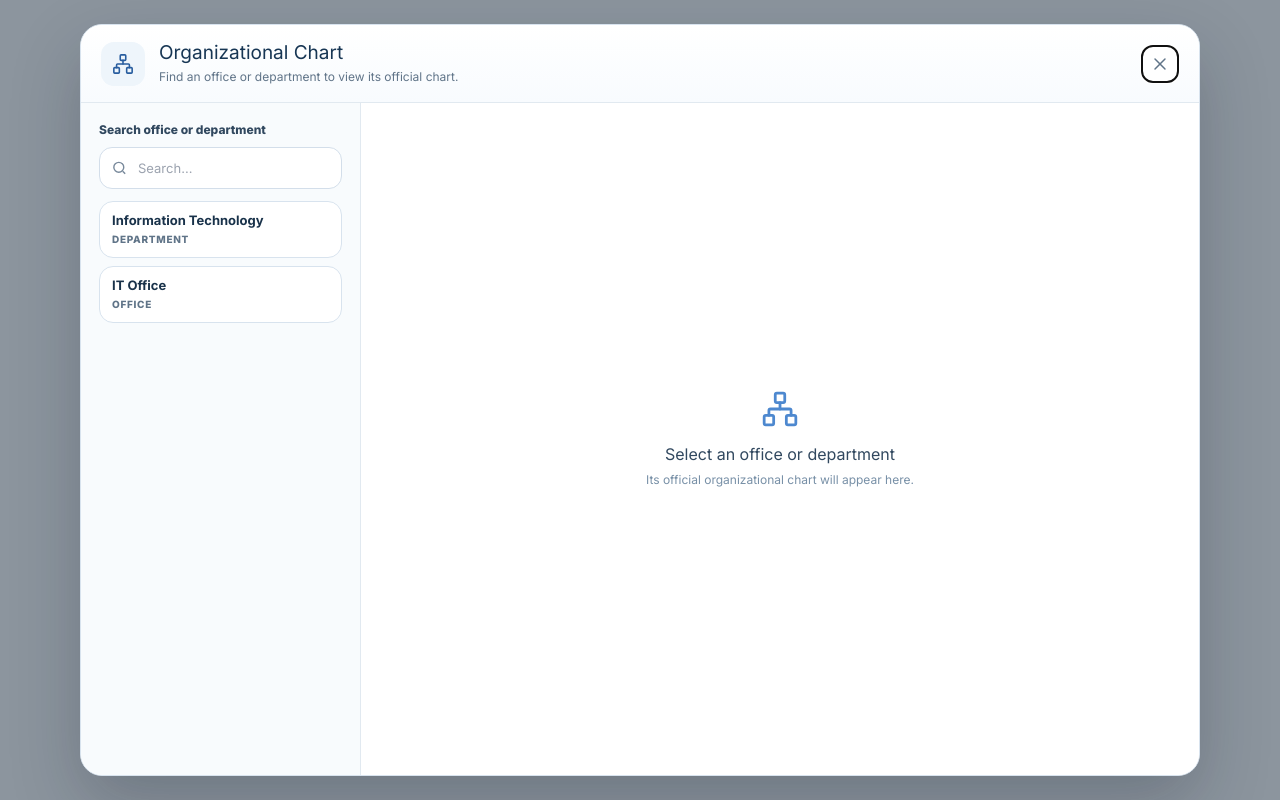
it: PublicOrgChart › shows an empty state when a unit has no uploaded chart
Click the button "Information Technology Department" at (220, 229), box [99,201,342,258]
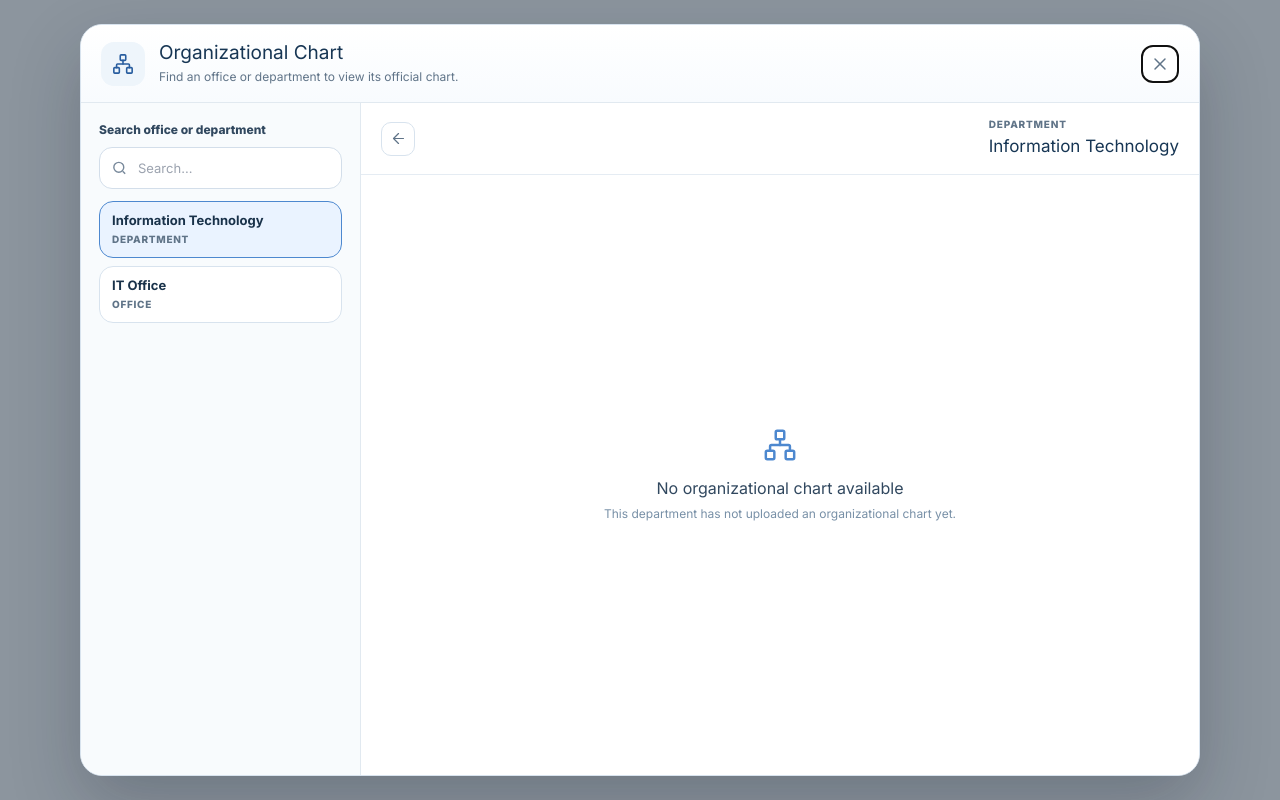
Expected: the heading "No organizational chart available" is shown, [656,476,903,500]
